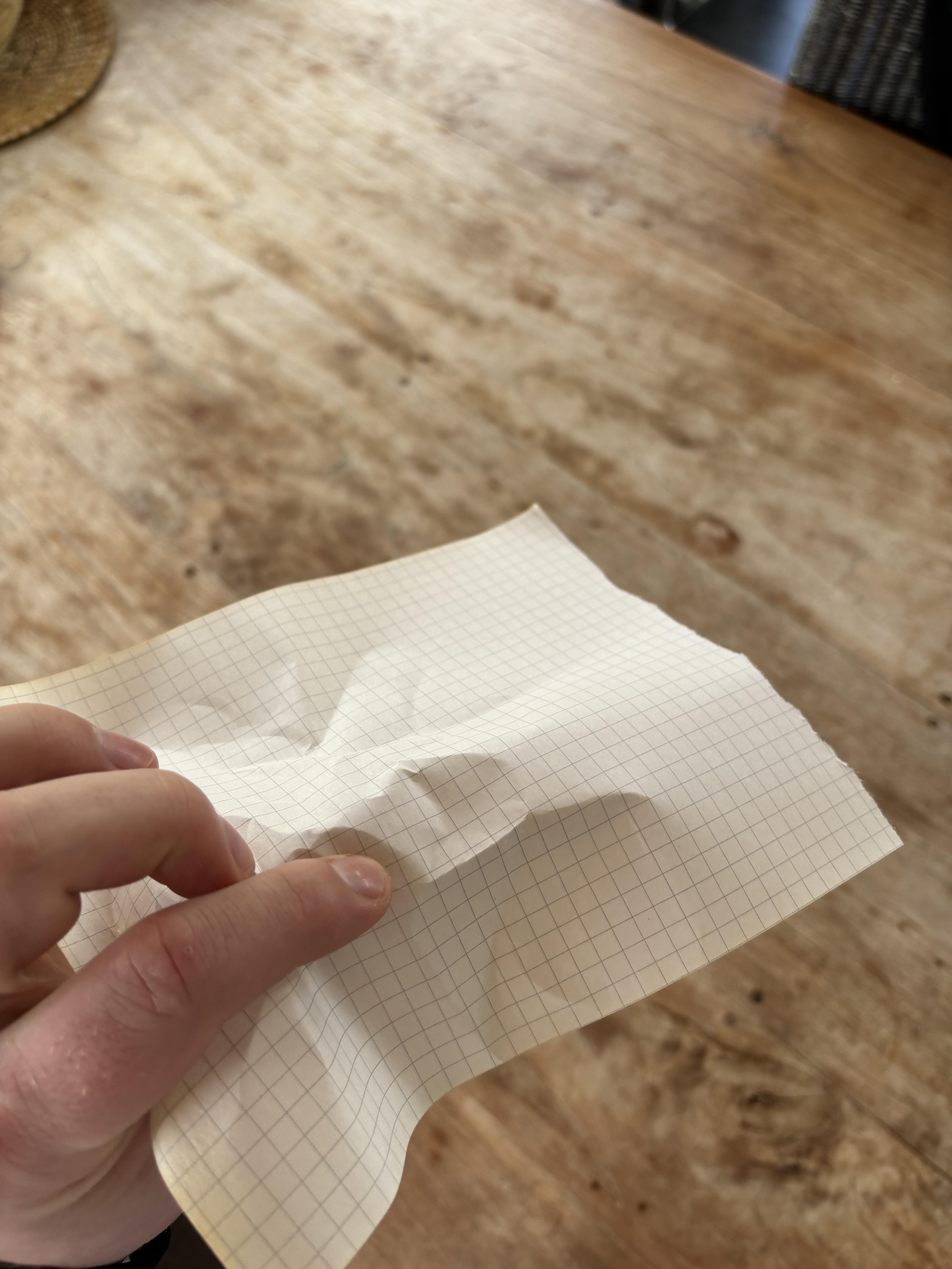Paper: (18, 502, 913, 1269)
